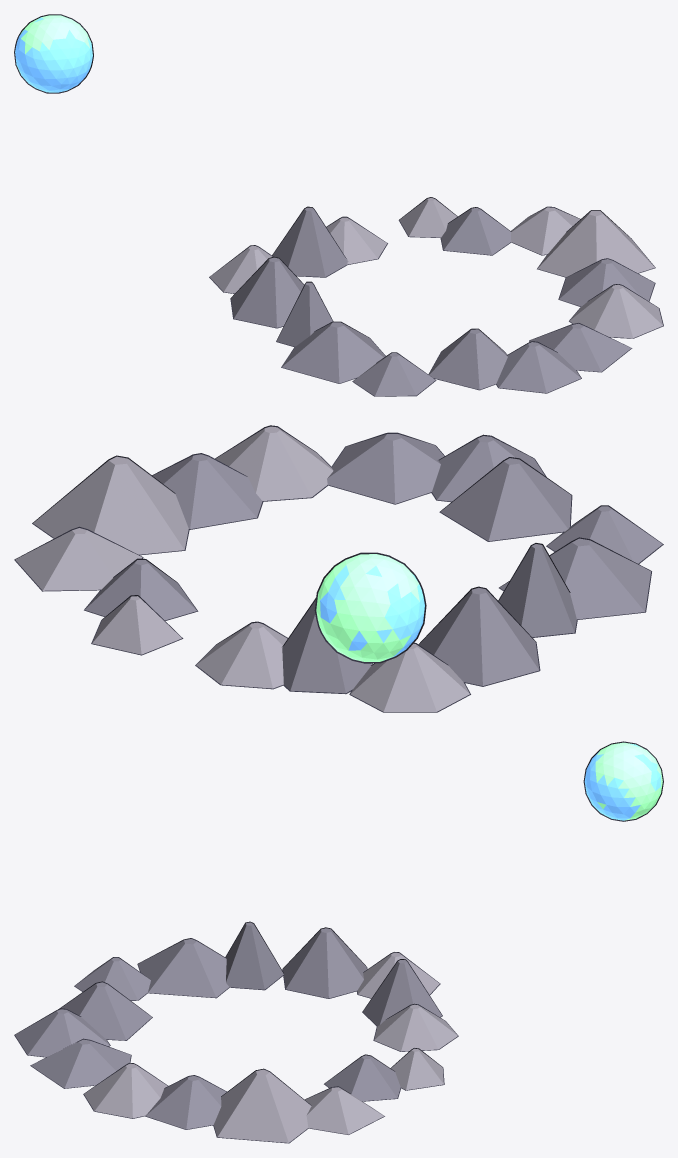
File: Fondo.fbx
3 renders of one model, top to bottom at view 1: azimuth 30°, elevation 25°; view 2: azimuth 150°, elevation 25°; view 3: azimuth 270°, elevation 25°, orthographic. The views are drawn at different scales.
Visible parts, largest first — view 1: Tierra, Montana_01, Montana_10, Montana_08, Montana_15, Montana_12, Montana_06, Montana_13, Montana_14, Montana_16, Montana_03, Montana_11 (+5 smaller); view 2: Tierra, Montana_01, Montana_08, Montana_12, Montana_14, Montana_10, Montana_15, Montana_07, Montana_16, Montana_02, Montana_09, Montana_06 (+7 smaller); view 3: Montana_01, Tierra, Montana_08, Montana_10, Montana_14, Montana_15, Montana_12, Montana_16, Montana_05, Montana_09, Montana_13, Montana_02 (+5 smaller).
Boxes of the visible parts, <box> form: Tierra: <box>15,15,92,92</box>; Montana_01: <box>537,210,654,277</box>; Montana_10: <box>282,322,385,383</box>; Montana_08: <box>231,257,303,327</box>; Montana_15: <box>570,284,662,338</box>; Montana_12: <box>429,329,507,389</box>; Montana_06: <box>272,207,347,276</box>; Montana_13: <box>496,342,580,392</box>; Montana_14: <box>529,323,631,371</box>; Montana_16: <box>559,259,654,306</box>; Montana_03: <box>441,207,511,254</box>; Montana_11: <box>353,353,435,396</box>; Tierra: <box>316,554,424,661</box>; Montana_01: <box>33,456,188,554</box>; Montana_08: <box>419,587,539,685</box>; Montana_12: <box>440,458,571,541</box>; Montana_14: <box>327,434,444,503</box>; Montana_10: <box>500,538,650,619</box>; Montana_15: <box>215,426,333,500</box>; Montana_07: <box>350,643,469,711</box>; Montana_16: <box>153,454,262,529</box>; Montana_02: <box>15,528,142,590</box>; Montana_09: <box>498,544,576,637</box>; Montana_06: <box>282,600,372,693</box>; Montana_01: <box>214,1069,311,1142</box>; Tierra: <box>584,742,662,820</box>; Montana_08: <box>283,928,366,998</box>; Montana_10: <box>138,938,229,997</box>; Montana_14: <box>31,1039,130,1088</box>; Montana_15: <box>84,1064,167,1118</box>; Montana_12: <box>60,982,151,1040</box>; Montana_16: <box>146,1076,226,1129</box>; Montana_05: <box>374,1004,457,1051</box>; Montana_09: <box>226,922,283,989</box>; Montana_13: <box>15,1009,109,1056</box>; Montana_02: <box>305,1087,383,1134</box>.
Bounding box in the file's own units: 210 × 89.59 × 266.
